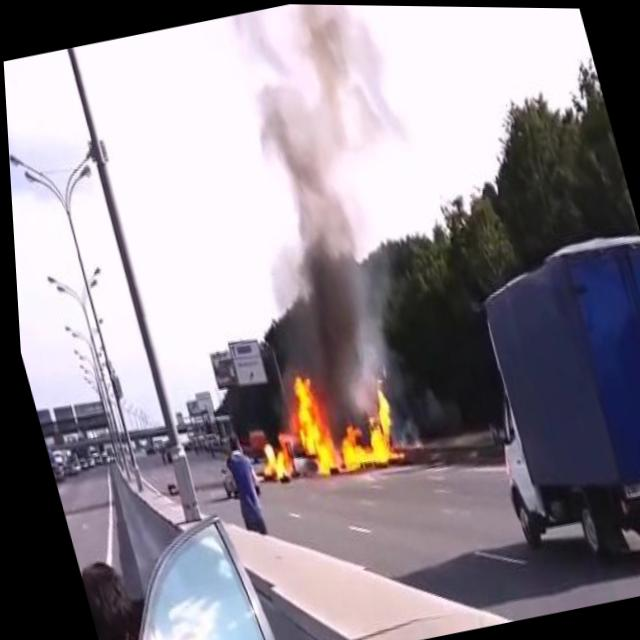fire: (272, 350, 402, 487), (248, 437, 288, 486)
